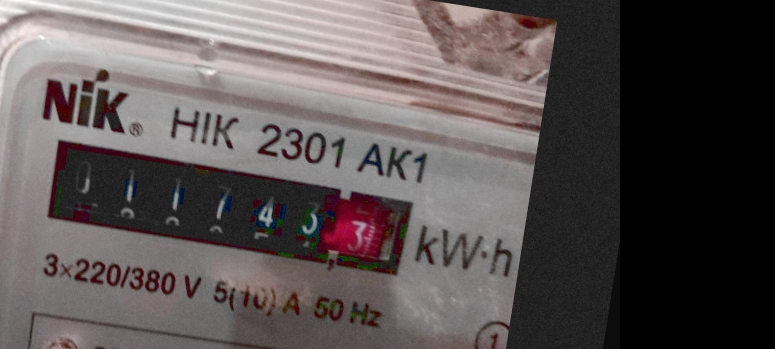0: (69, 156, 96, 198), (118, 163, 142, 206)
1: (164, 171, 186, 214)
3: (297, 195, 323, 240), (343, 215, 369, 255)
4: (253, 188, 279, 230)
7: (206, 177, 236, 224)
screen: (24, 123, 424, 289)
